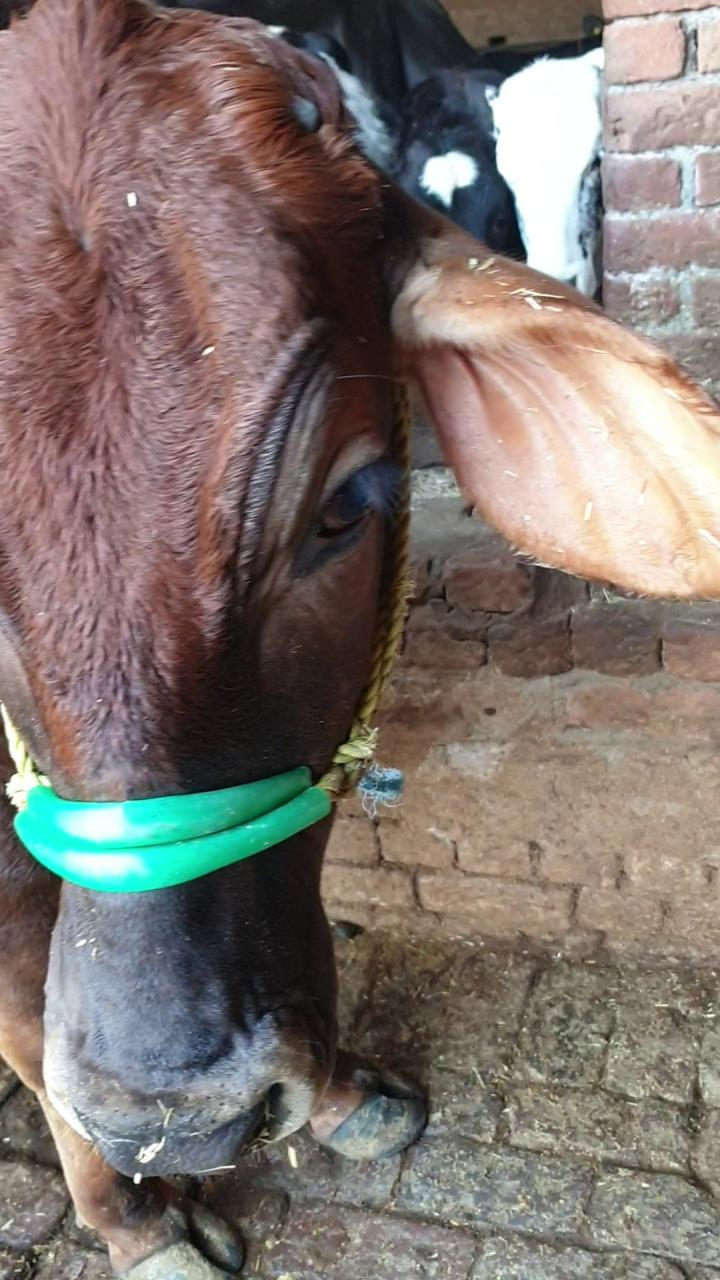cows: (0, 19, 377, 1174)
